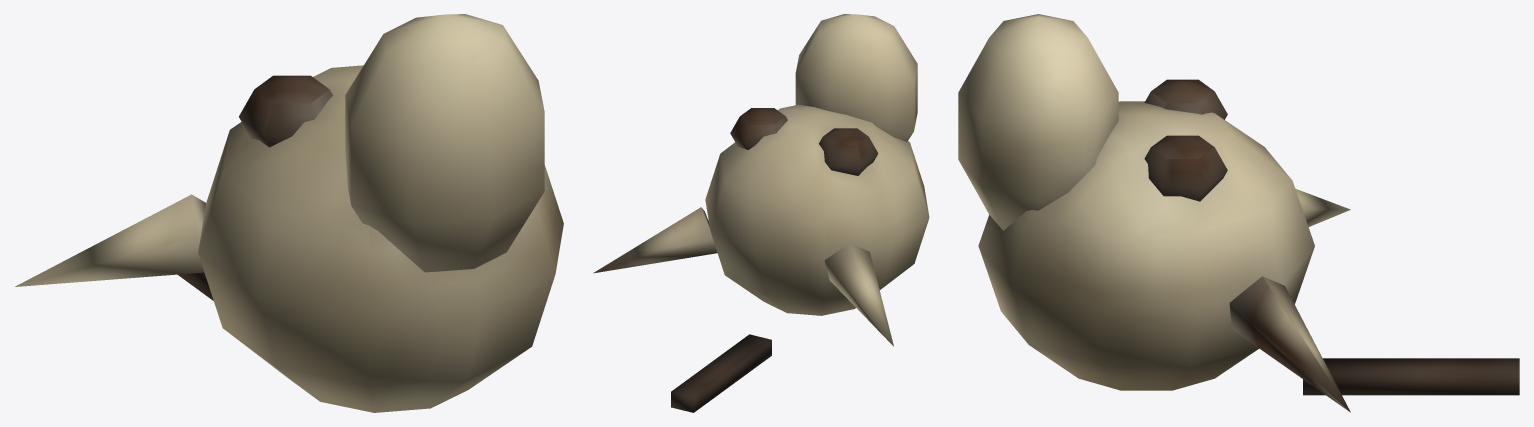
File: Prop_SkullTrophy.fbx
3 renders of one model, left to right at view 1: azimuth 30°, elevation 25°; view 2: azimuth 150°, elevation 25°; view 3: azimuth 270°, elevation 25°, orthographic. The views are drawn at different scales.
Visible parts, largest first — view 1: Prop_SkullTrophy; view 2: Prop_SkullTrophy; view 3: Prop_SkullTrophy.
Part boxes in pixels (left/top/right/bottom): Prop_SkullTrophy: left=15, top=14, right=563, bottom=412; Prop_SkullTrophy: left=593, top=14, right=929, bottom=412; Prop_SkullTrophy: left=958, top=14, right=1519, bottom=412.
Bounding box in the file's own units: 0.08 × 0.068 × 0.0933.
